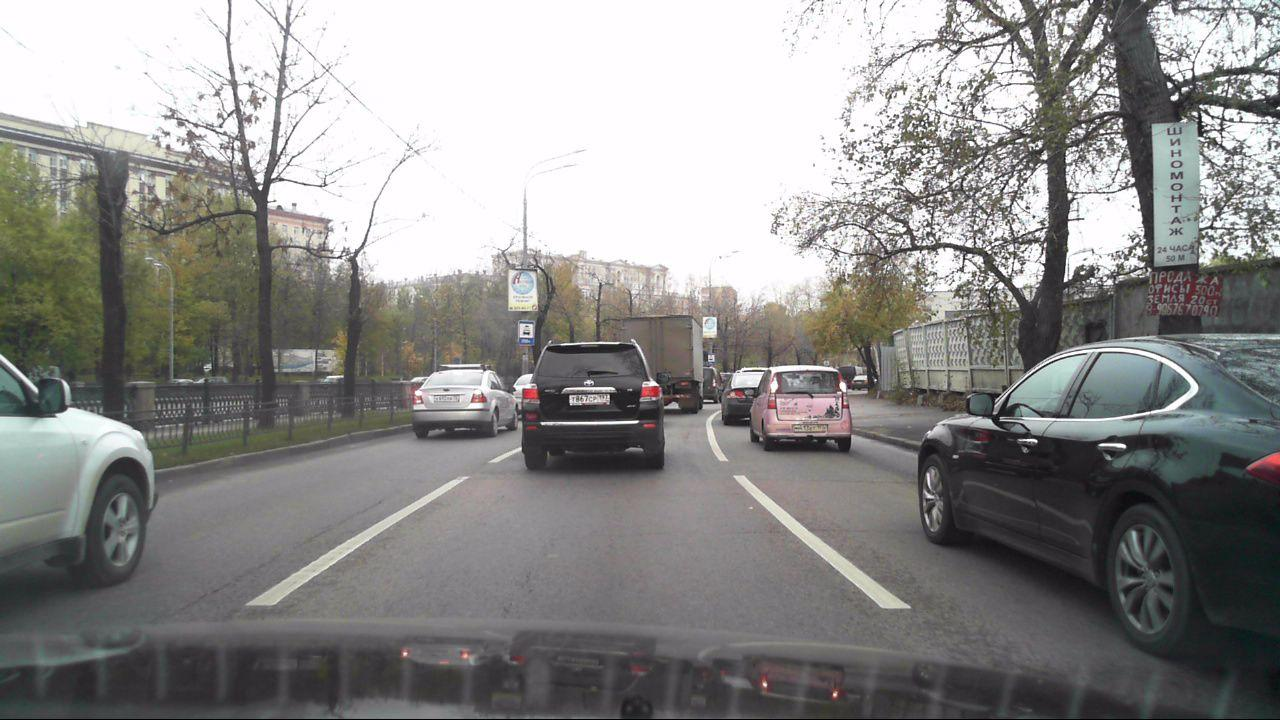7_5: (518, 319, 535, 345)
